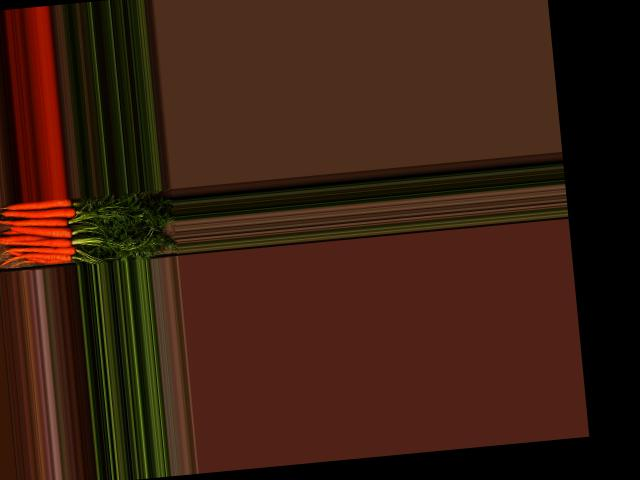carrot: (0, 197, 75, 216)
